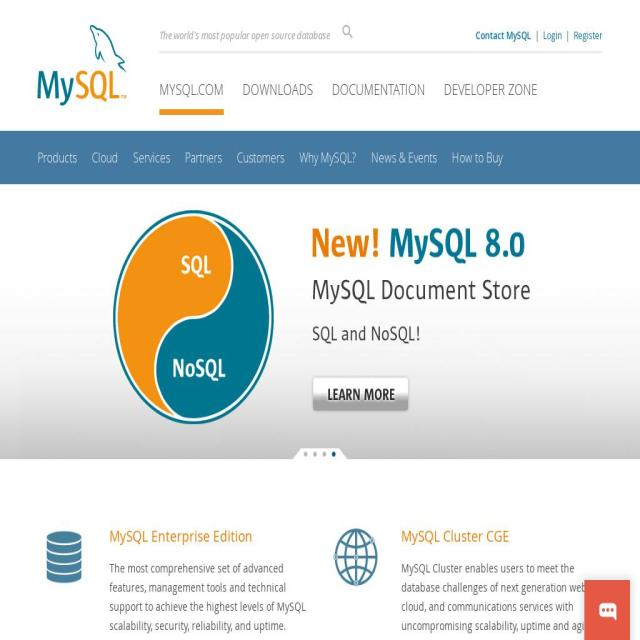button: (443, 79, 538, 99), (332, 79, 425, 99), (243, 79, 313, 99), (159, 79, 224, 99)
field: (339, 22, 361, 40)
heading: (110, 525, 252, 546), (402, 525, 509, 546)
image: (332, 526, 380, 588), (41, 526, 88, 588), (301, 448, 311, 461), (329, 448, 339, 461), (292, 448, 301, 461), (311, 448, 320, 461), (320, 448, 329, 461), (339, 448, 348, 461)
link: (371, 149, 437, 167), (299, 149, 356, 167), (452, 149, 502, 167), (237, 149, 284, 167), (476, 28, 531, 42), (37, 149, 77, 167), (133, 149, 170, 167), (185, 149, 222, 167), (92, 149, 118, 167), (574, 28, 602, 42), (543, 28, 562, 42), (109, 636, 164, 640), (401, 636, 456, 640)
text: (20, 184, 620, 459), (401, 560, 599, 633), (110, 560, 306, 633), (159, 28, 330, 41), (562, 28, 574, 42), (533, 28, 541, 42)
